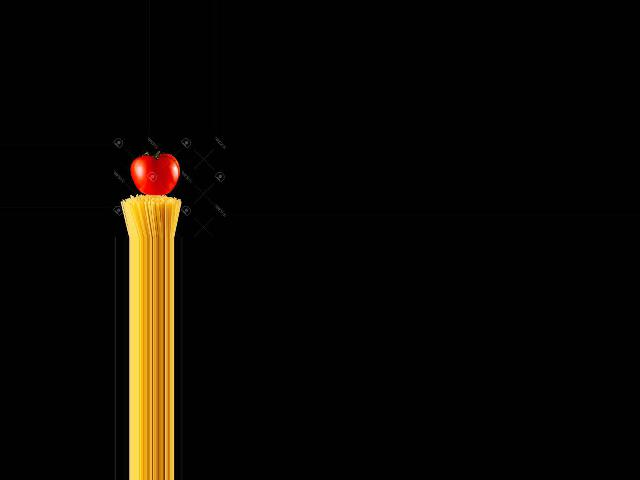tomato: (130, 153, 178, 195)
